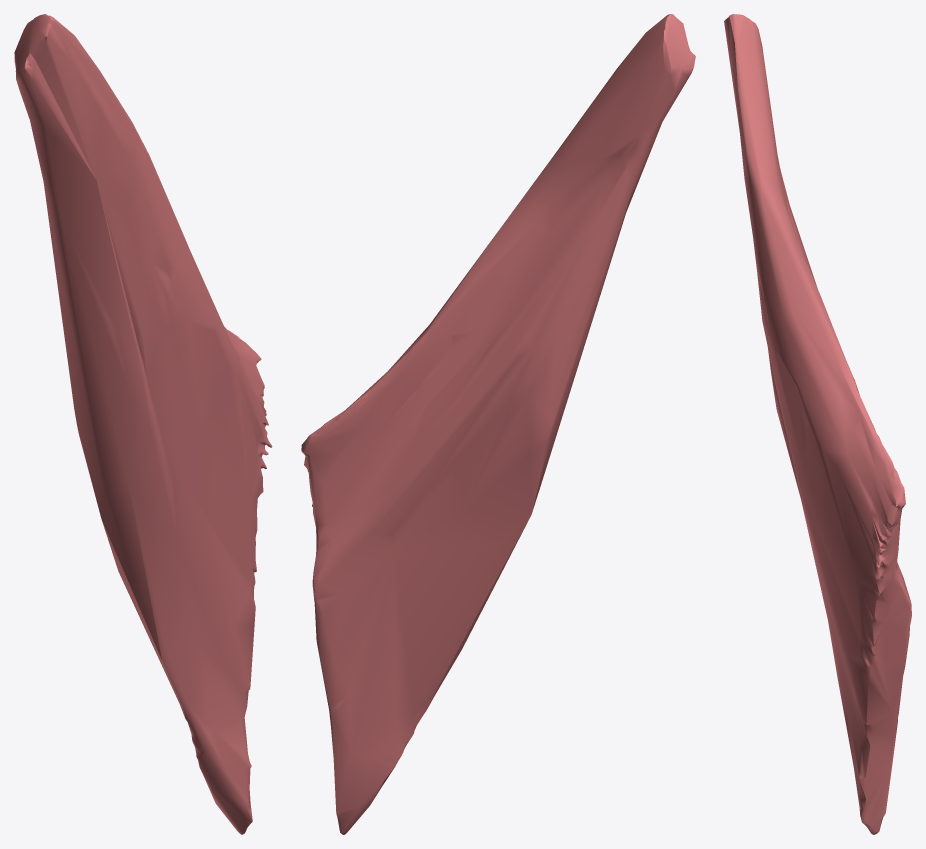
3 views of the same model, side by side, from view 1: azimuth 30°, elevation 25°; view 2: azimuth 150°, elevation 25°; view 3: azimuth 270°, elevation 25° (orthographic). The views are drawn at different scales.
Parts seen in each view (by area): view 1: FJ1401M; view 2: FJ1401M; view 3: FJ1401M.
Part boxes in pixels (left/top/right/bottom): FJ1401M: left=14, top=14, right=272, bottom=834; FJ1401M: left=301, top=14, right=695, bottom=834; FJ1401M: left=724, top=14, right=911, bottom=834.
Bounding box in the file's own units: 0.075 × 0.1958 × 0.0466.
